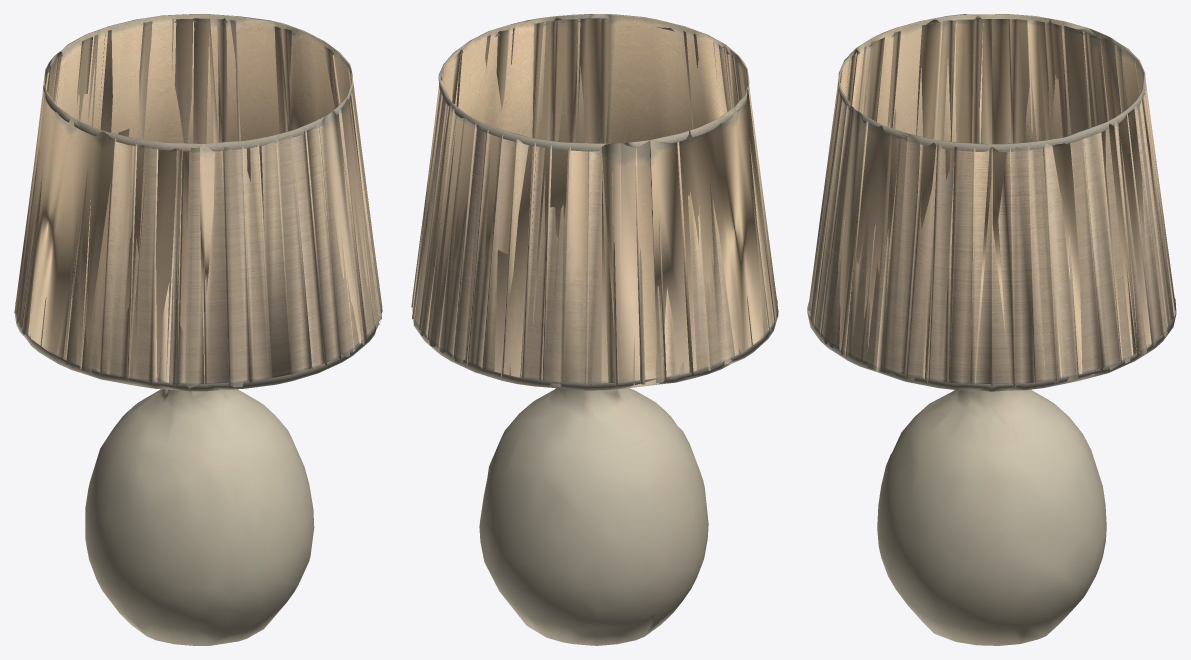
File: BedsideLamp.glb
3 views of the same model, side by side, from view 1: azimuth 30°, elevation 25°; view 2: azimuth 150°, elevation 25°; view 3: azimuth 270°, elevation 25° (orthographic).
Bounding box in the file's own units: 0.5933 × 0.9512 × 0.5922.
1 material, 1 textured.
